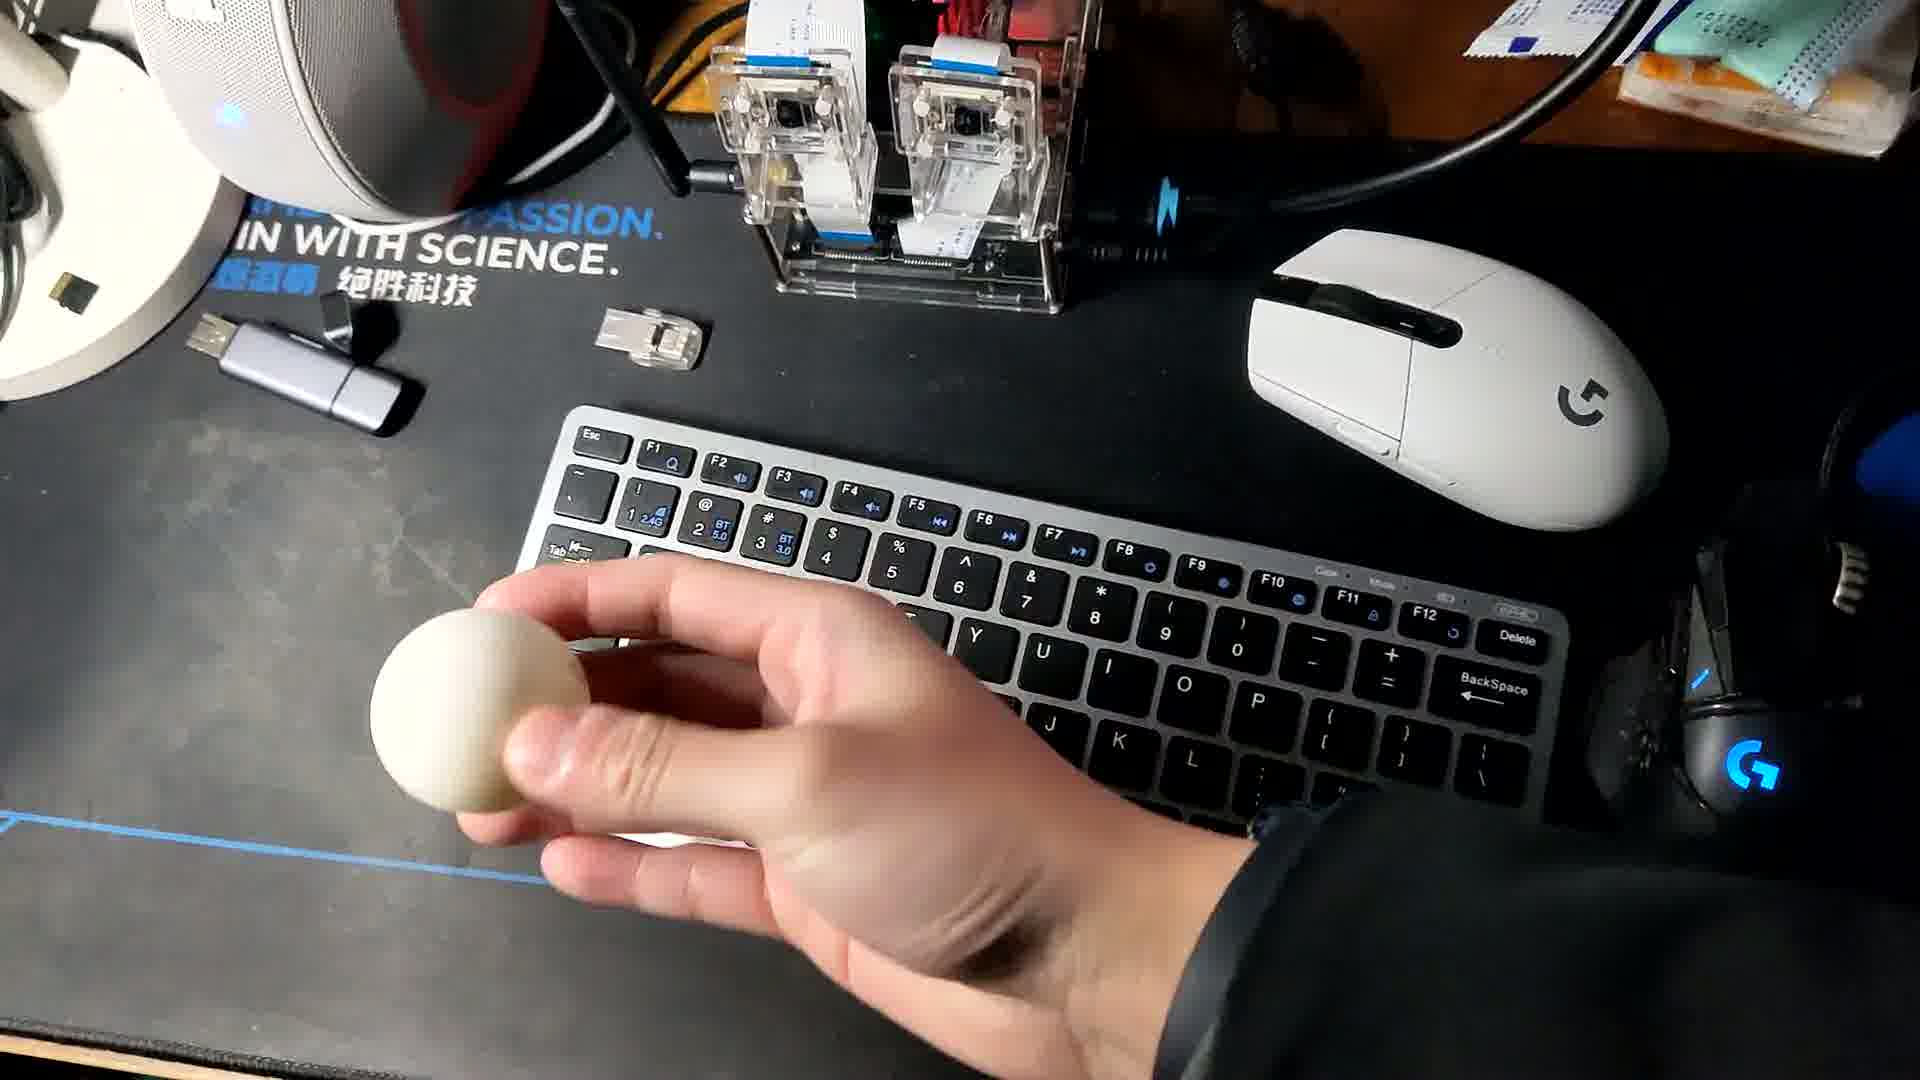Ball: (367, 611, 593, 823)
